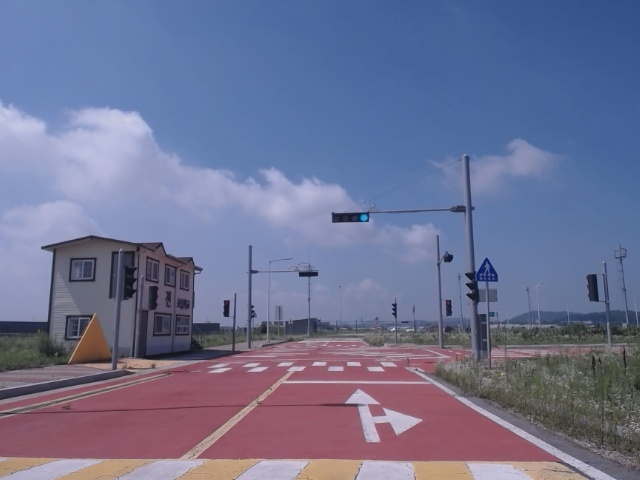straight_green_4: (331, 214, 370, 222)
